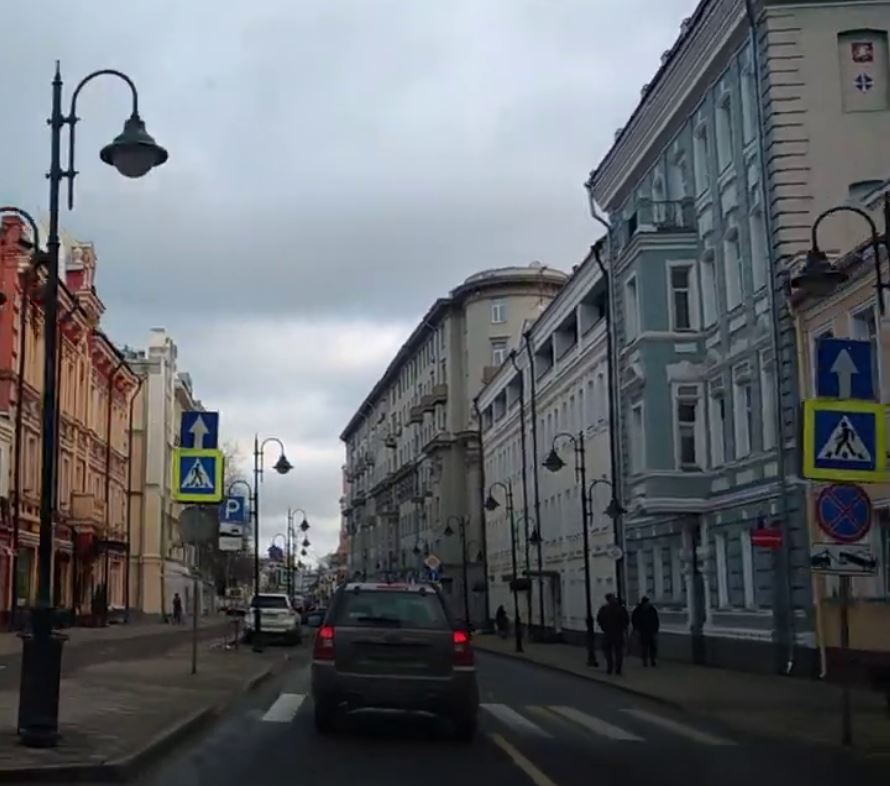Yaya Gecidi: (816, 411, 874, 472), (175, 458, 220, 493)
